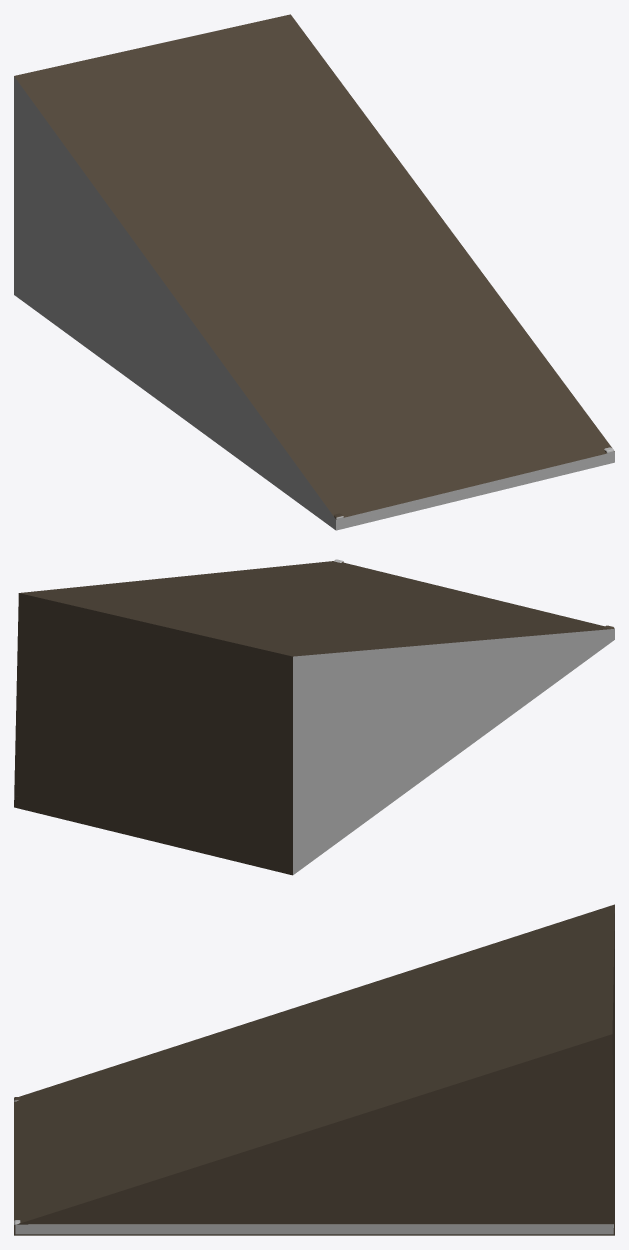
The model's file is ramp_up_1x2_damaged.glb.
3 views of the same model, one above another, from view 1: azimuth 30°, elevation 25°; view 2: azimuth 150°, elevation 25°; view 3: azimuth 270°, elevation 25° (orthographic). The views are drawn at different scales.
Visible parts, largest first — view 1: Visual_ramp_up_1x2_Wedge; view 2: Visual_ramp_up_1x2_Wedge; view 3: Visual_ramp_up_1x2_Wedge, Visual_ramp_up_1x2_EastCurb.
Boxes of the visible parts, x1,y1,x2,y2 form: Visual_ramp_up_1x2_Wedge: (14,14,614,530); Visual_ramp_up_1x2_Wedge: (14,561,614,875); Visual_ramp_up_1x2_Wedge: (14,904,614,1235); Visual_ramp_up_1x2_EastCurb: (14,1220,613,1234).
Bounding box in the file's own units: 4 × 3 × 8.
